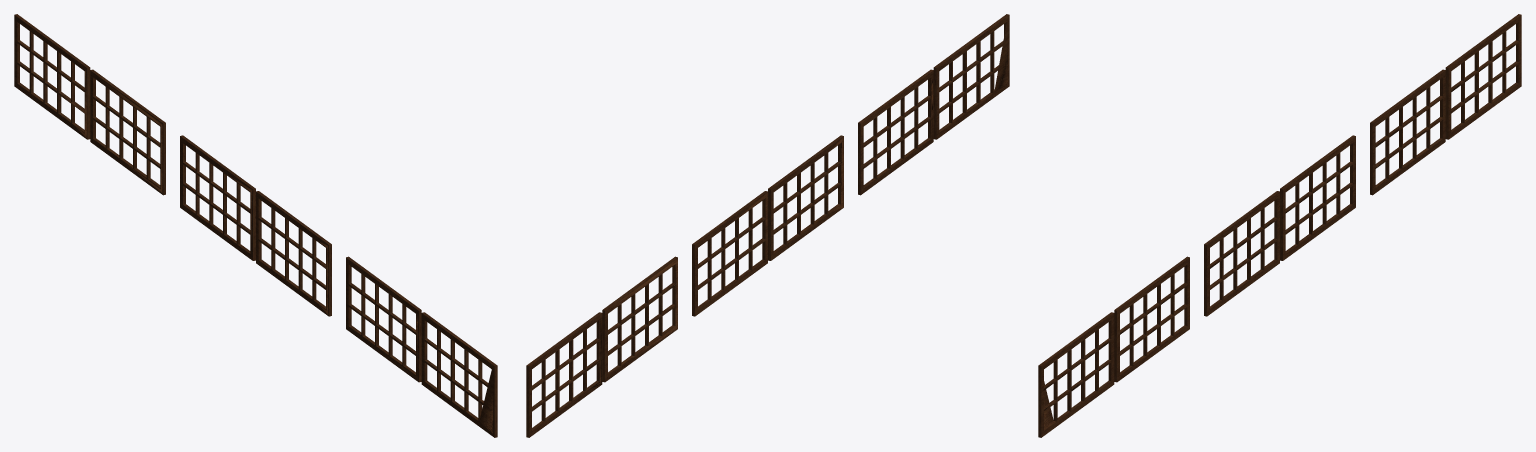
File: MSH_C_Wall_East_panels_B.glb
3 renders of one model, left to right at view 1: azimuth 30°, elevation 25°; view 2: azimuth 150°, elevation 25°; view 3: azimuth 330°, elevation 25°, orthographic.
Parts seen in each view (by area): view 1: MSH_C_Wall_East_panels_B; view 2: MSH_C_Wall_East_panels_B; view 3: MSH_C_Wall_East_panels_B.
Part boxes in pixels (x1,y1,x2,y2): MSH_C_Wall_East_panels_B: (14, 14, 497, 437); MSH_C_Wall_East_panels_B: (526, 14, 1009, 437); MSH_C_Wall_East_panels_B: (1038, 14, 1521, 437).
Size of the model in its own units: 0.03 by 0.7 by 8.5.
1 material, 1 textured.
